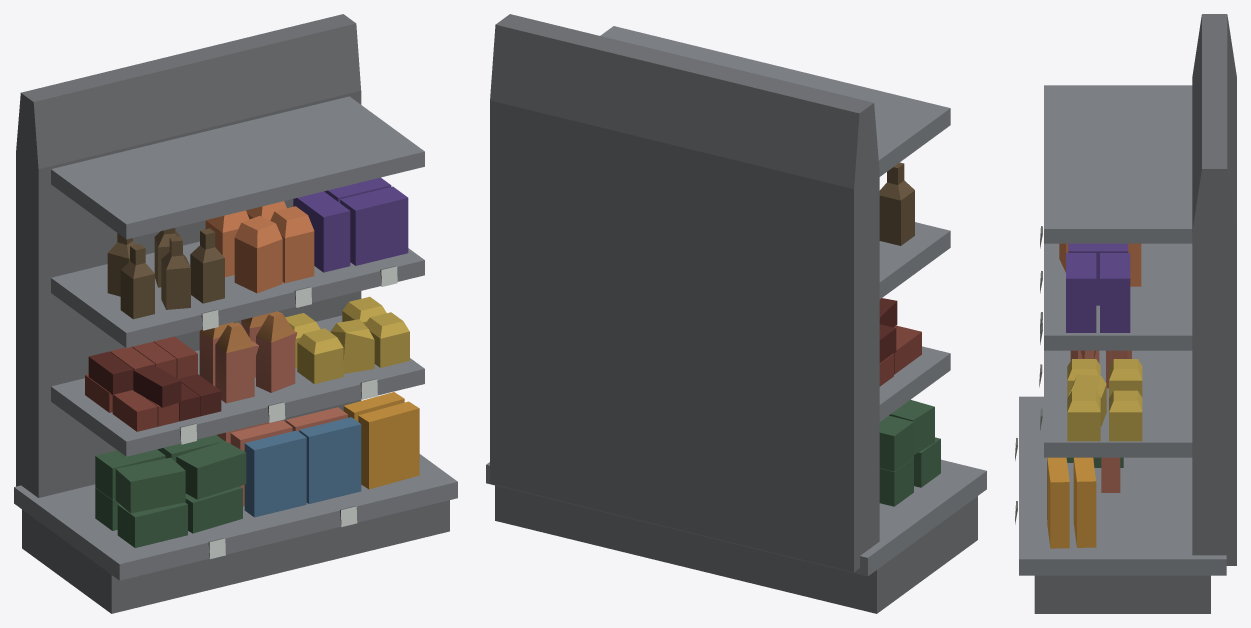
File: SM_Prop_ShopInterior_Shelf_01.fbx
3 views of the same model, side by side, from view 1: azimuth 30°, elevation 25°; view 2: azimuth 150°, elevation 25°; view 3: azimuth 270°, elevation 25° (orthographic). The views are drawn at different scales.
Parts seen in each view (by area): view 1: SM_Prop_ShopInterior_Shelf_01; view 2: SM_Prop_ShopInterior_Shelf_01; view 3: SM_Prop_ShopInterior_Shelf_01.
Part boxes in pixels (x1,y1,x2,y2): SM_Prop_ShopInterior_Shelf_01: (14,14,457,613); SM_Prop_ShopInterior_Shelf_01: (486,14,986,613); SM_Prop_ShopInterior_Shelf_01: (1015,14,1236,613).
Bounding box in the file's own units: 152 × 193 × 87.82.
